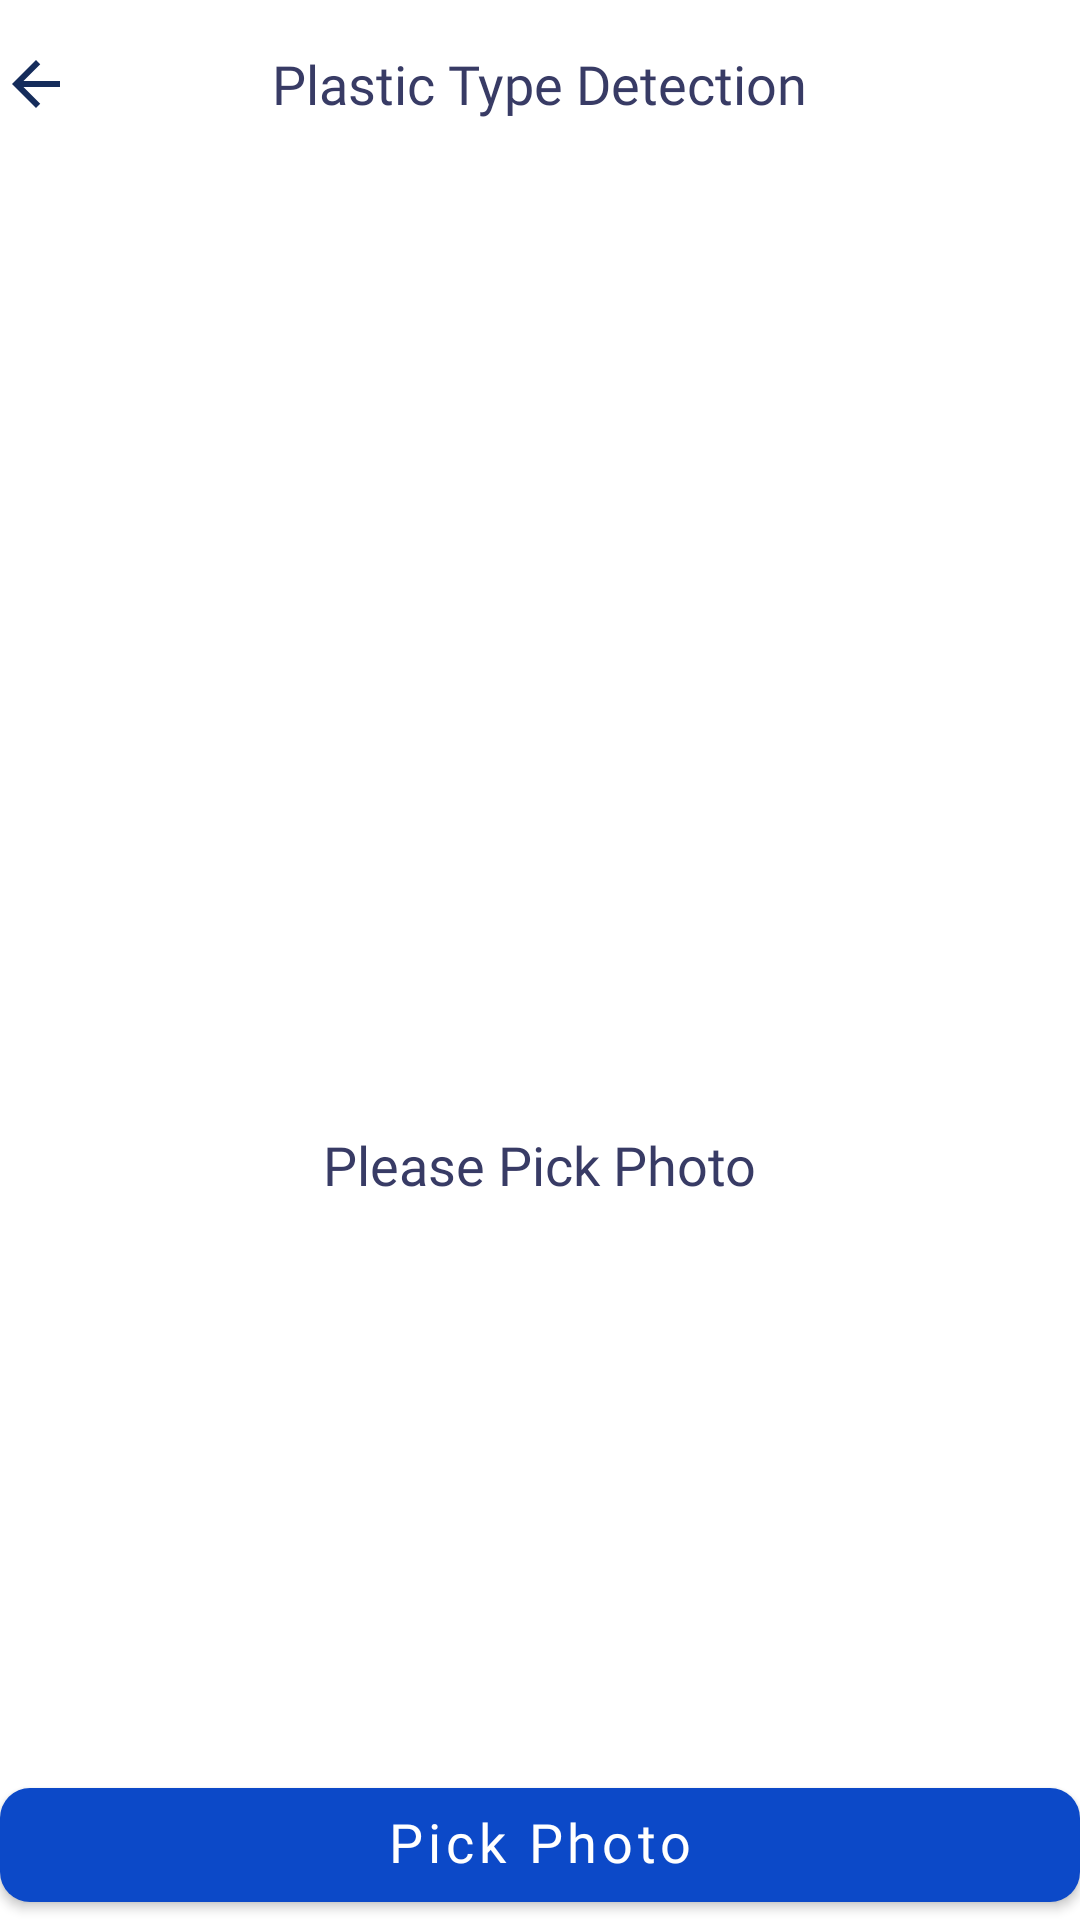

Screen size 1080*1920. Icon name, then its box in pixels as [left=x1, top=y1, right=x2, bottom=y2]:
back: [left=12, top=60, right=60, bottom=108]
